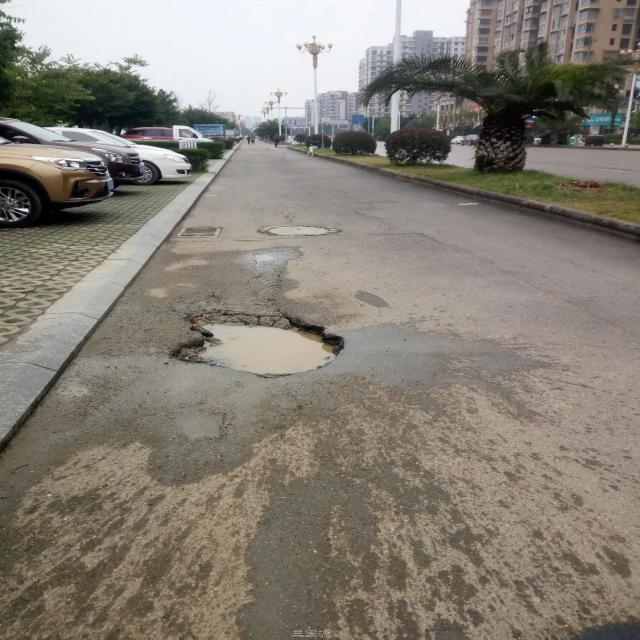Pothole: (168, 313, 352, 377), (257, 220, 345, 242)
